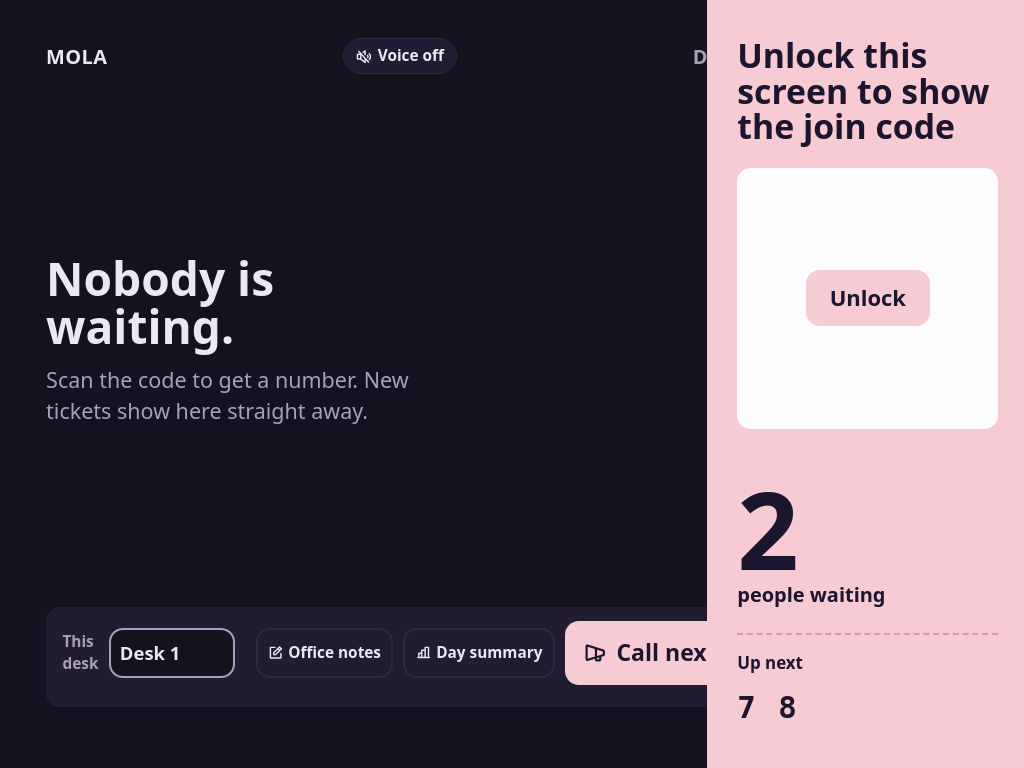
Test: staff controls › ignores an unrelated board while the call is pending
Click the button "Call next" at x=650, y=653, box [565,621,735,685]
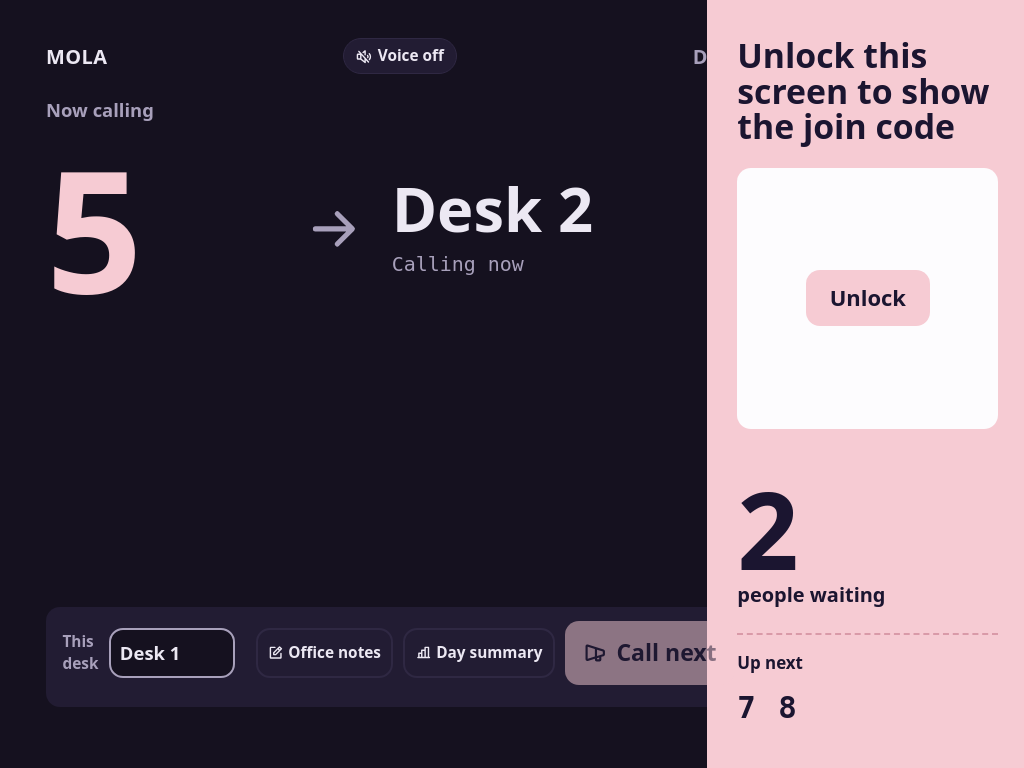
Expected: the button "Call next" is disabled, [565,621,735,685]
